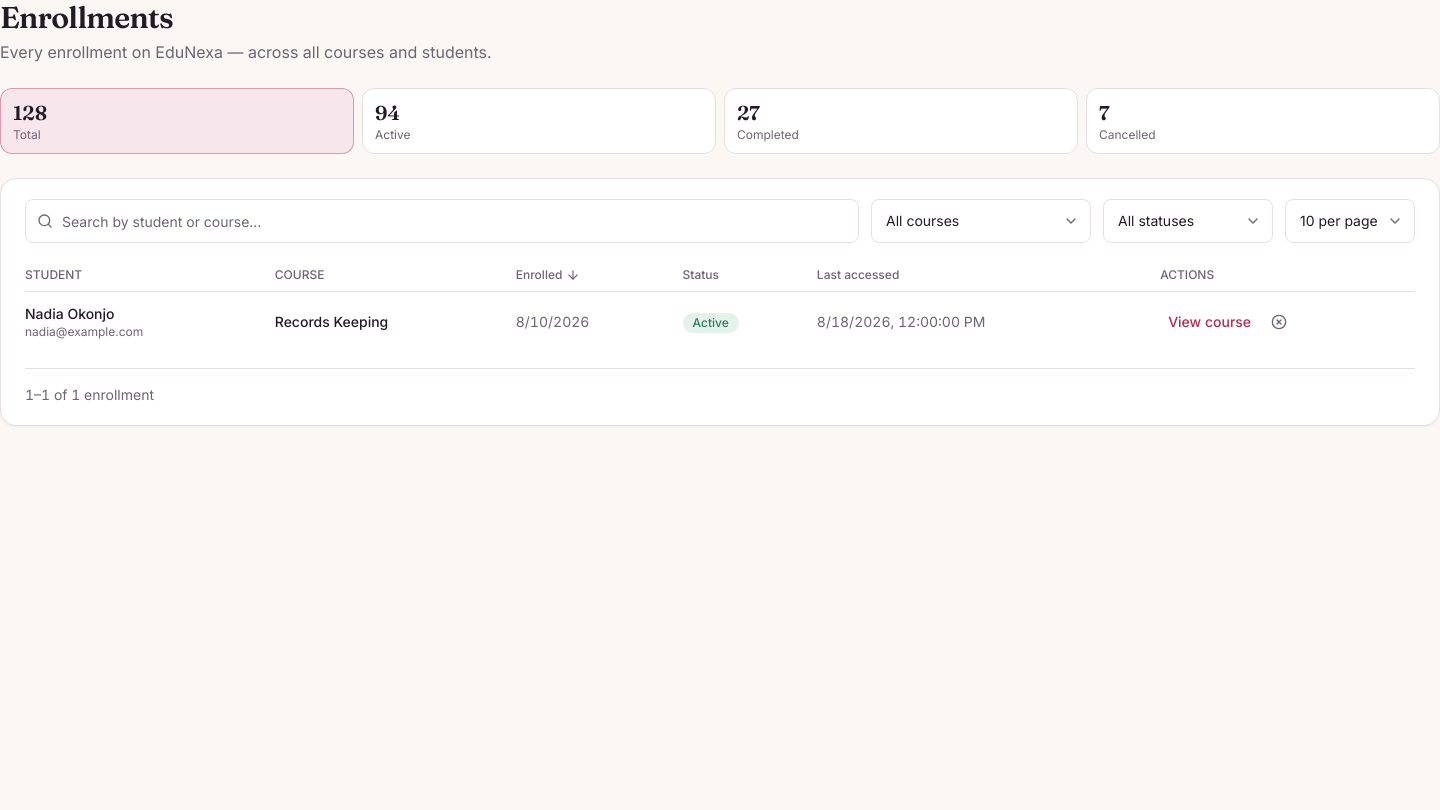
it: AdminEnrollmentsPage › reports a failed cancellation instead of pretending it worked
Expected: the table is shown, [25,259,1415,352]
Click the button named "Cancel enrollment for".
click(1279, 322)  # box [1261,304,1297,340]
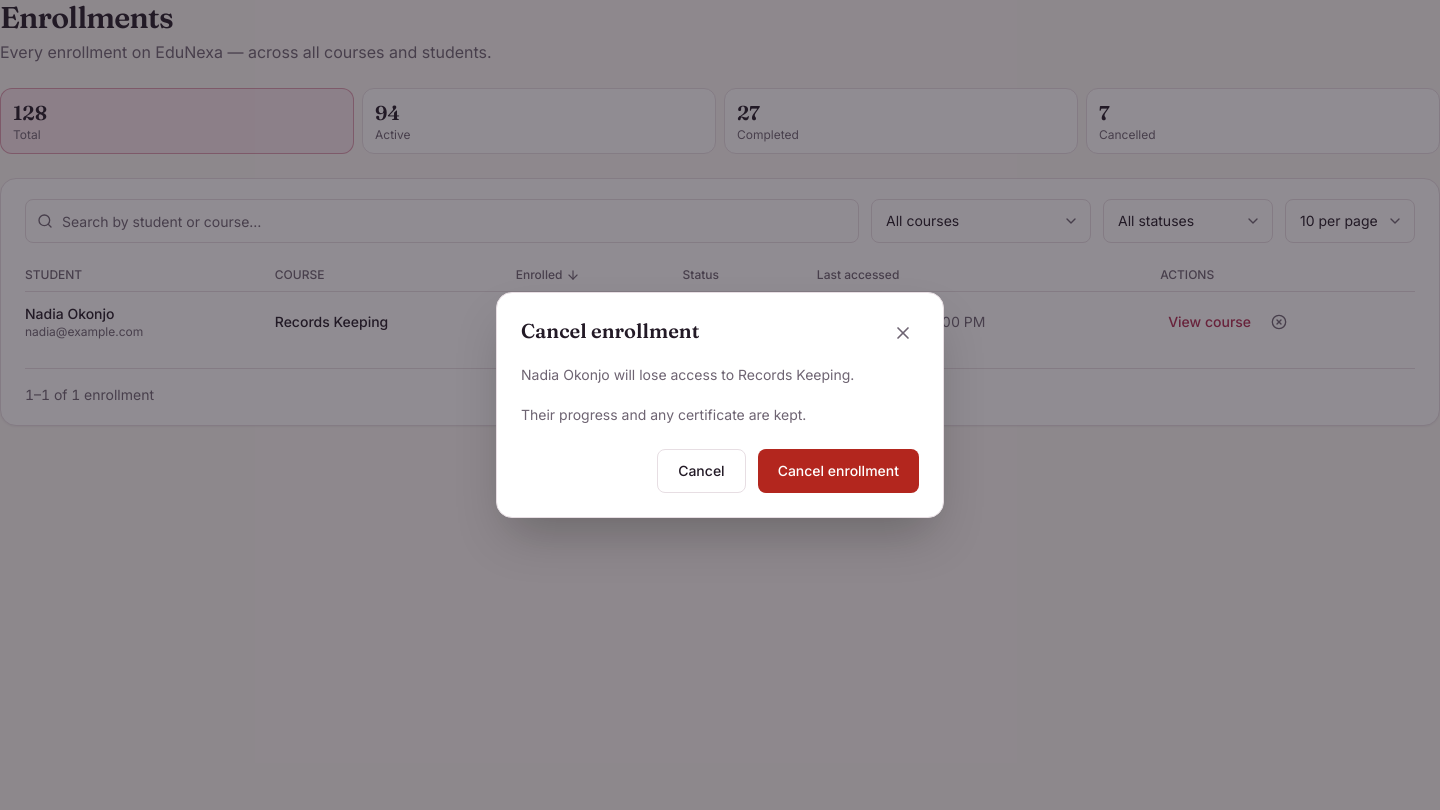
Click the button "Cancel enrollment".
click(838, 471)  # box [758,449,919,493]
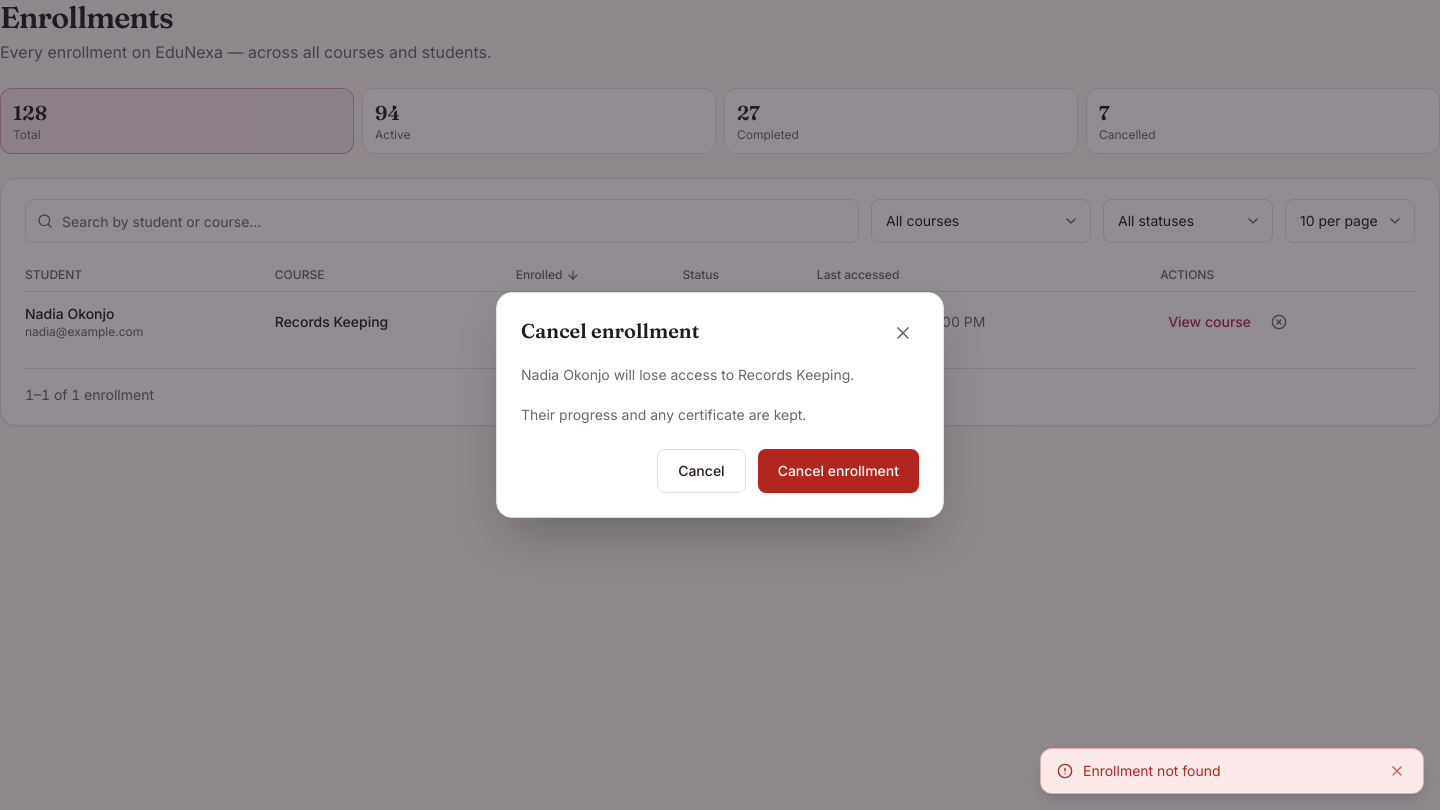
Now the text "Enrollment not found" is shown, box [1083,762,1221,779]
